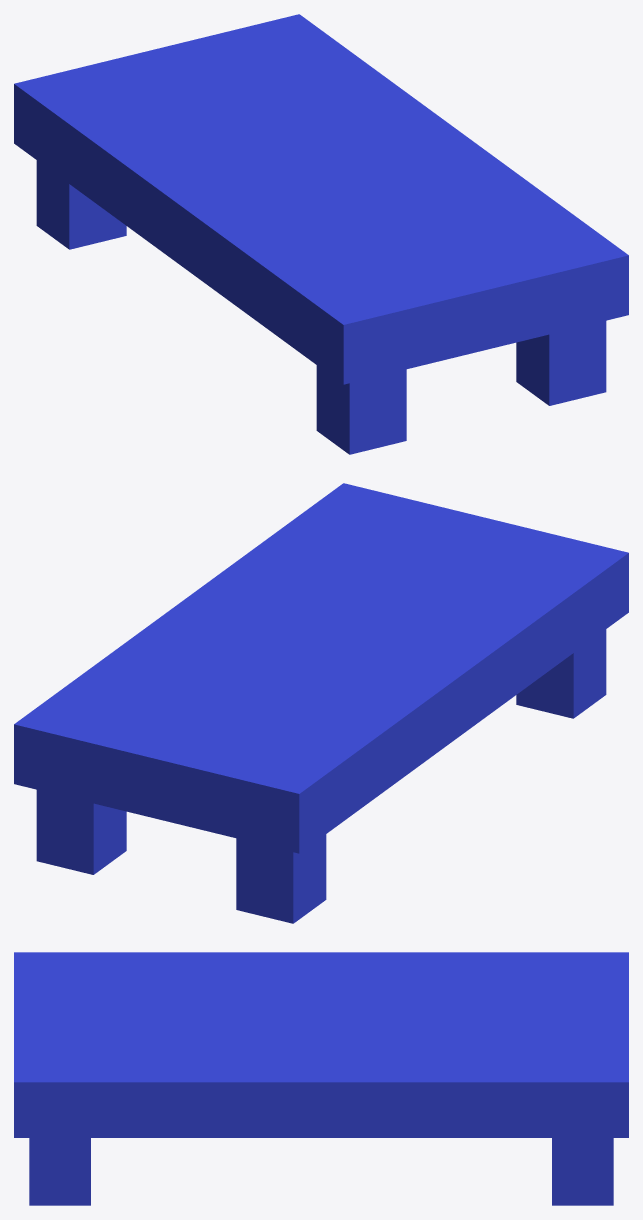
File: bed_m1.fbx
The picture shows the model from 3 angles, top to bottom: view 1: azimuth 30°, elevation 25°; view 2: azimuth 150°, elevation 25°; view 3: azimuth 270°, elevation 25°; orthographic projection. The views are drawn at different scales.
Parts seen in each view (by area): view 1: Cube; view 2: Cube; view 3: Cube.
Part boxes in pixels (x1,y1,x2,y2): Cube: (14,14,628,454); Cube: (14,483,628,923); Cube: (14,952,628,1205).
Size of the model in its own units: 2 by 0.9333 by 4.
